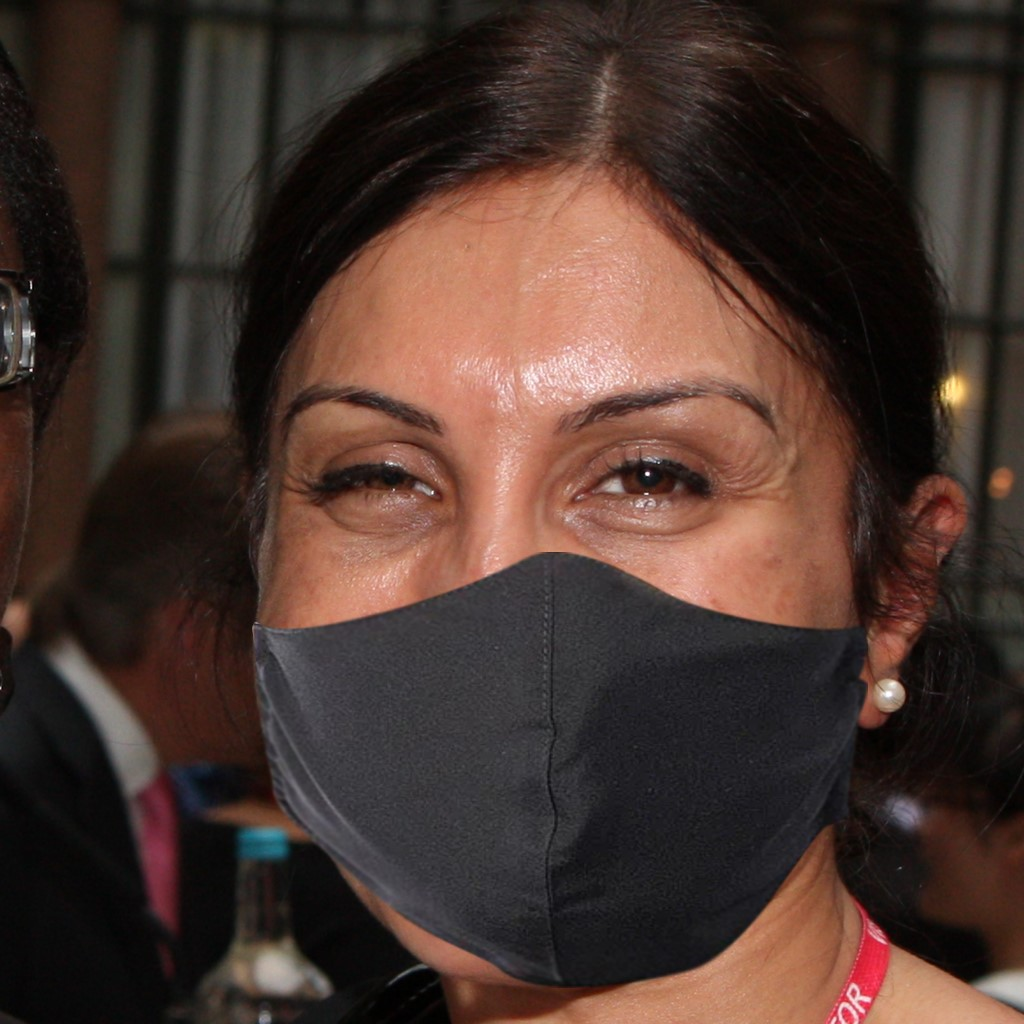con_mascara: (204, 196, 861, 995)
